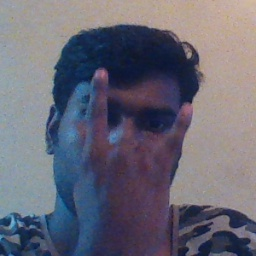V: (68, 64, 198, 240)
